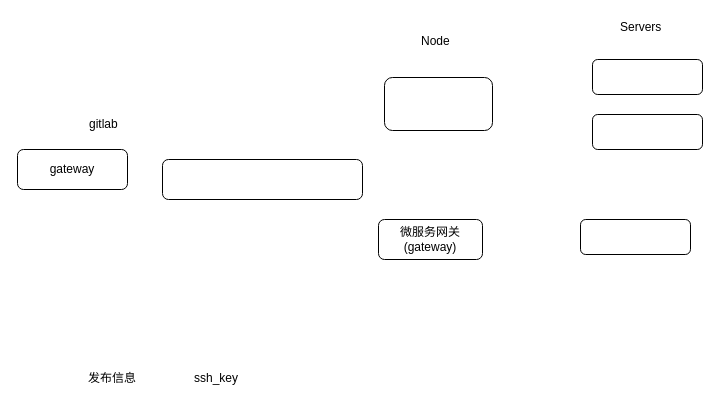
This 720x405 diagram has some shape labels left out. Each missing label, with the centre of its shape:
git地址 git@10.0.122.202:rourou/excel.git: (x=262, y=179)
nginx: (x=438, y=103)
